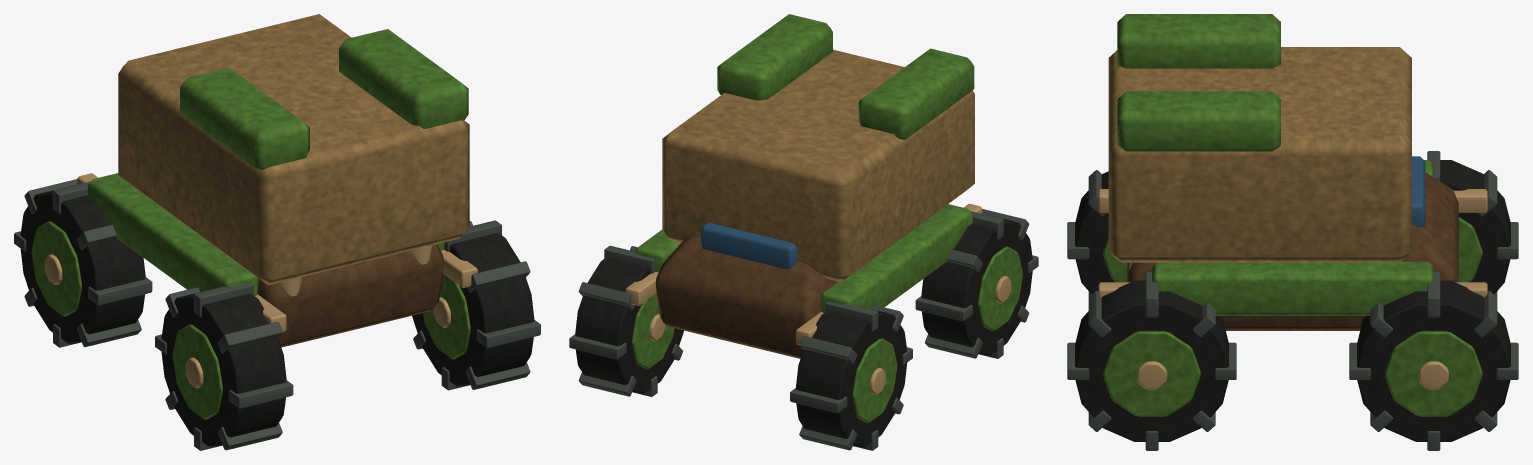
Rendered from vael_chariot_de_camp.gltf.
3 renders of one model, left to right at view 1: azimuth 30°, elevation 25°; view 2: azimuth 150°, elevation 25°; view 3: azimuth 270°, elevation 25°, orthographic. The views are drawn at different scales.
Visible parts, largest first — view 1: Root.021_Geometry, Wheel_-0.6554999999999999_-0.002_Geometry, Wheel_-0.6554999999999999_0.002_Geometry, Wheel_0.6554999999999999_-0.002_Geometry; view 2: Root.021_Geometry, Wheel_-0.6554999999999999_0.002_Geometry, Wheel_-0.6554999999999999_-0.002_Geometry, Wheel_0.6554999999999999_0.002_Geometry; view 3: Root.021_Geometry, Wheel_0.6554999999999999_0.002_Geometry, Wheel_0.6554999999999999_-0.002_Geometry, Wheel_-0.6554999999999999_0.002_Geometry, Wheel_-0.6554999999999999_-0.002_Geometry.
Boxes of the visible parts, x1,y1,x2,y2 form: Root.021_Geometry: (77,14,477,347); Wheel_-0.6554999999999999_-0.002_Geometry: (155,282,293,450); Wheel_-0.6554999999999999_0.002_Geometry: (14,179,152,347); Wheel_0.6554999999999999_-0.002_Geometry: (412,220,540,390); Root.021_Geometry: (625,14,982,358); Wheel_-0.6554999999999999_0.002_Geometry: (790,301,912,450); Wheel_-0.6554999999999999_-0.002_Geometry: (915,209,1038,358); Wheel_0.6554999999999999_0.002_Geometry: (569,245,683,396); Root.021_Geometry: (1098,14,1487,330); Wheel_0.6554999999999999_0.002_Geometry: (1349,272,1518,450); Wheel_0.6554999999999999_-0.002_Geometry: (1067,272,1236,450); Wheel_-0.6554999999999999_0.002_Geometry: (1427,151,1518,296); Wheel_-0.6554999999999999_-0.002_Geometry: (1067,170,1127,296).
Bounding box in the file's own units: 1.65 × 1.59 × 2.07.
Materials: 7 (4 with a texture image).
